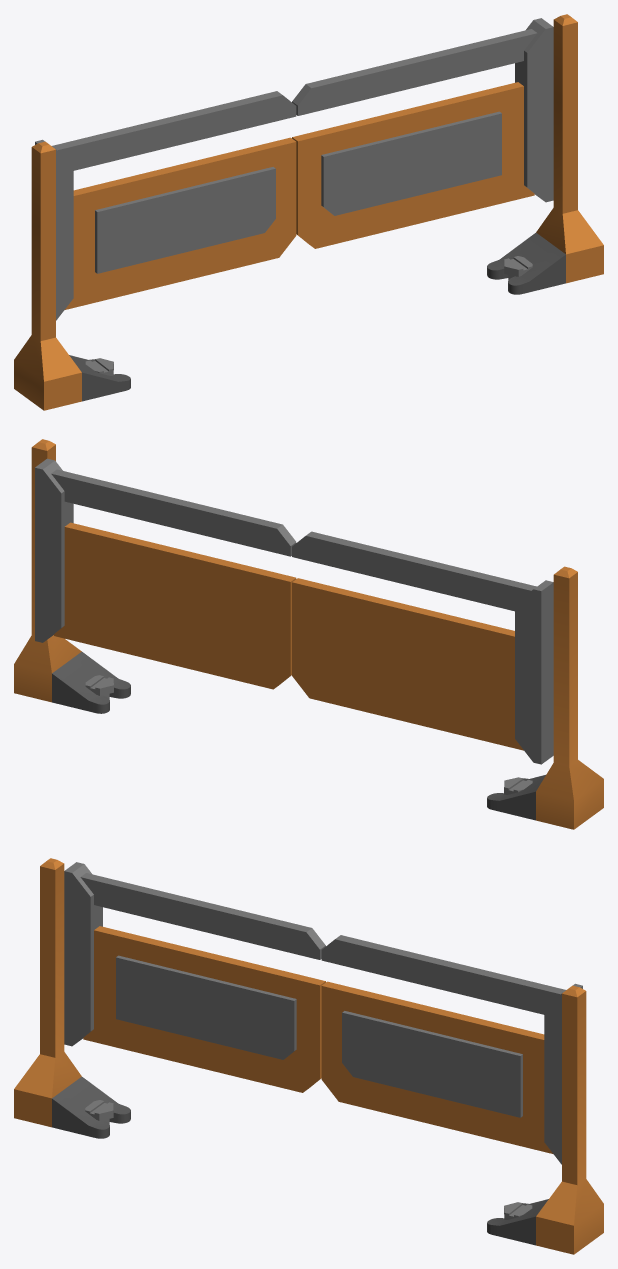
Rendered from kapi.fbx.
The picture shows the model from 3 angles, top to bottom: view 1: azimuth 30°, elevation 25°; view 2: azimuth 150°, elevation 25°; view 3: azimuth 330°, elevation 25°; orthographic projection.
Parts seen in each view (by area): view 1: kapiSag, kapiSol, ayakSag, ayakSol; view 2: kapiSol, kapiSag, ayakSol, ayakSag; view 3: kapiSol, kapiSag, ayakSol, ayakSag.
Part boxes in pixels (left/top/right/bottom): kapiSag: left=292, top=18, right=553, bottom=248; kapiSol: left=35, top=91, right=296, bottom=320; ayakSag: left=487, top=14, right=603, bottom=294; ayakSol: left=14, top=141, right=130, bottom=410; kapiSol: left=292, top=531, right=553, bottom=764; kapiSag: left=35, top=458, right=296, bottom=689; ayakSol: left=487, top=566, right=603, bottom=829; ayakSag: left=14, top=439, right=130, bottom=713; kapiSol: left=64, top=862, right=325, bottom=1092; kapiSag: left=321, top=935, right=582, bottom=1164; ayakSol: left=14, top=858, right=130, bottom=1138; ayakSag: left=487, top=985, right=603, bottom=1254.
Bounding box in the file's own units: 1080 × 458 × 120.
